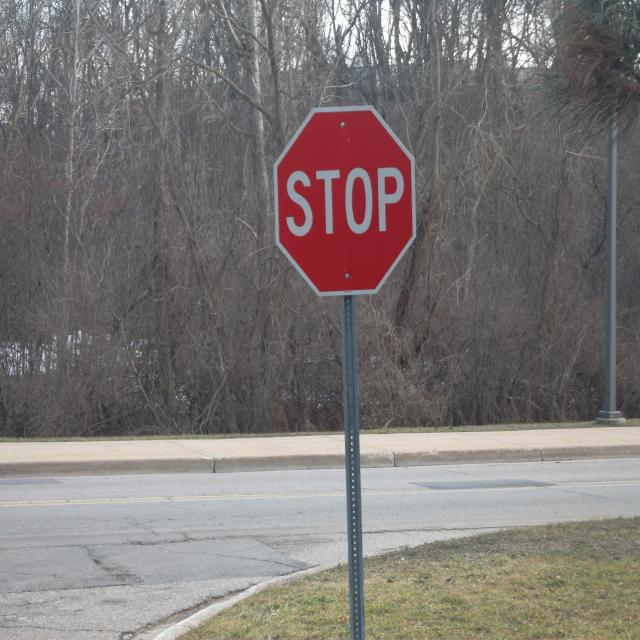stop: (268, 99, 422, 302)
